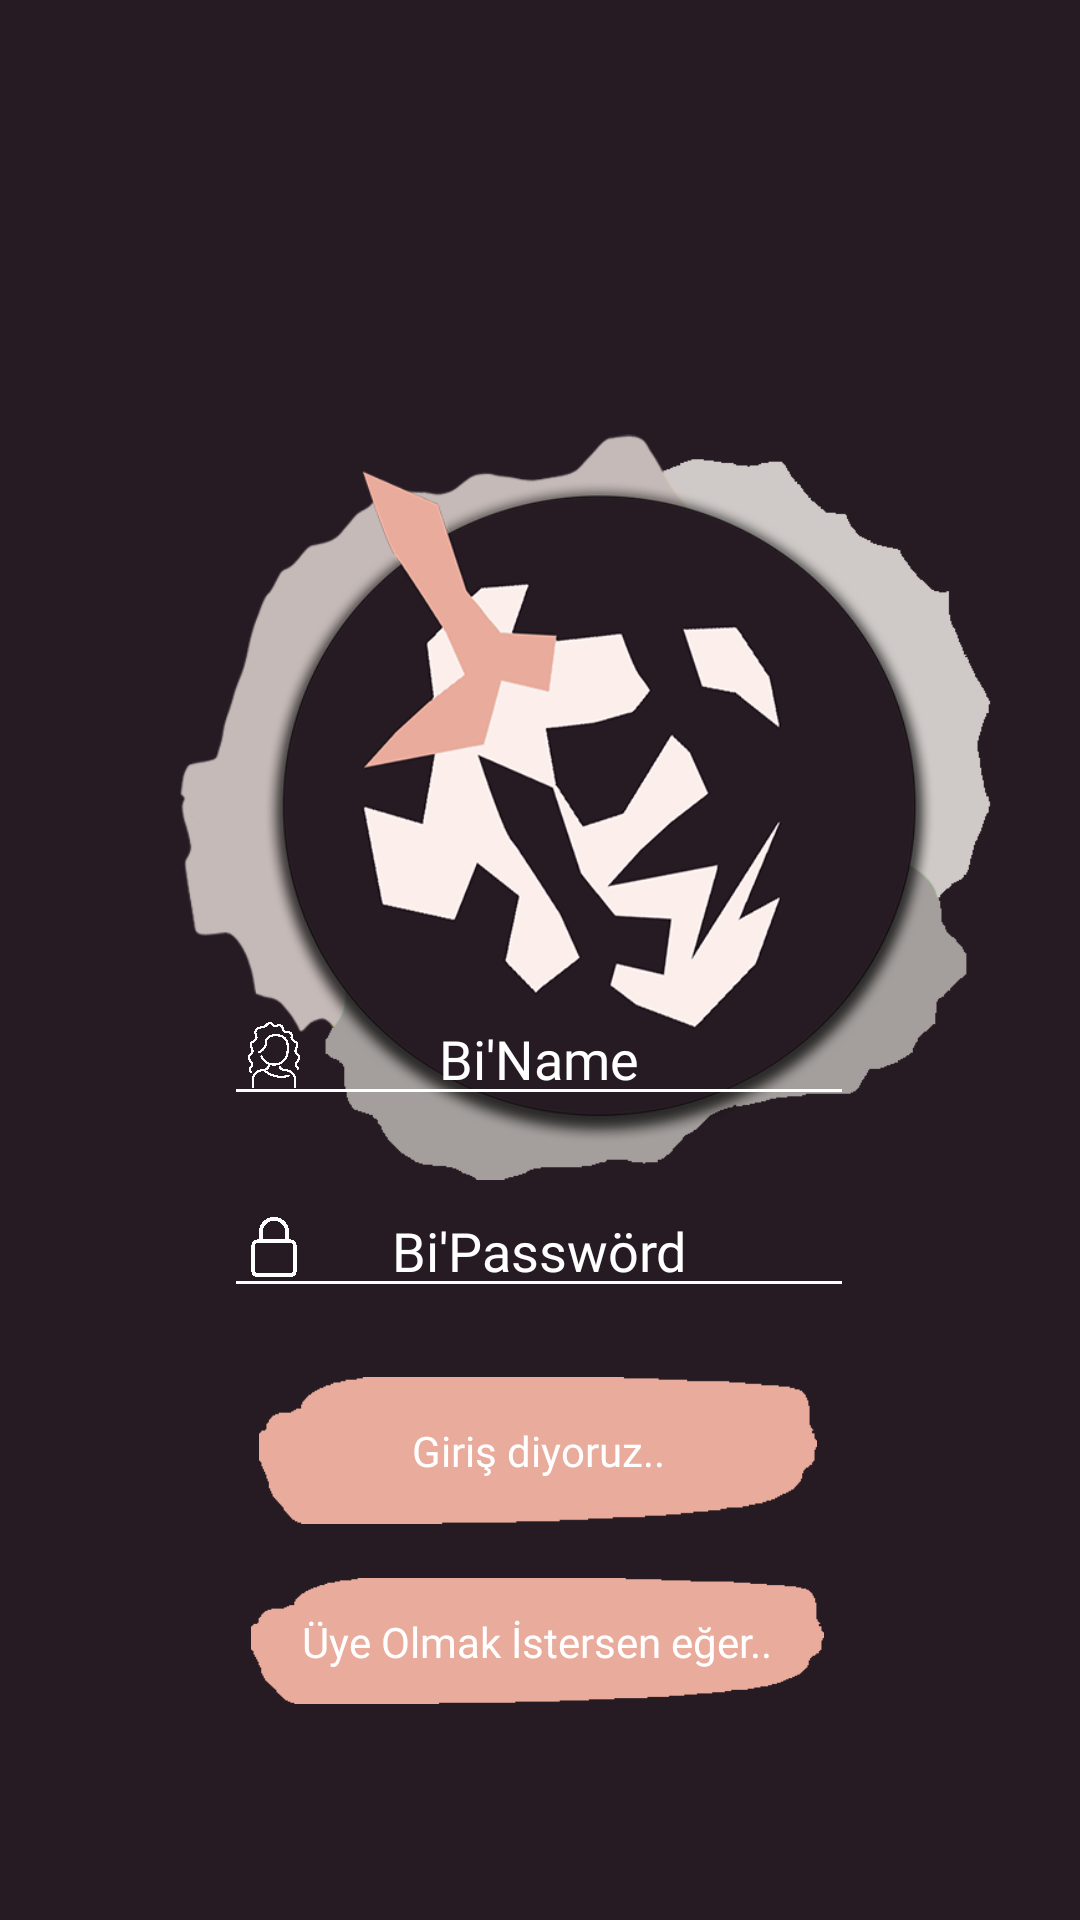

Screen size 1080 × 1920. Icon name, then its box in pixels as (x1, y1, x2, y2):
loockk: (251, 1217, 297, 1277)
womaan: (248, 1022, 300, 1088)
